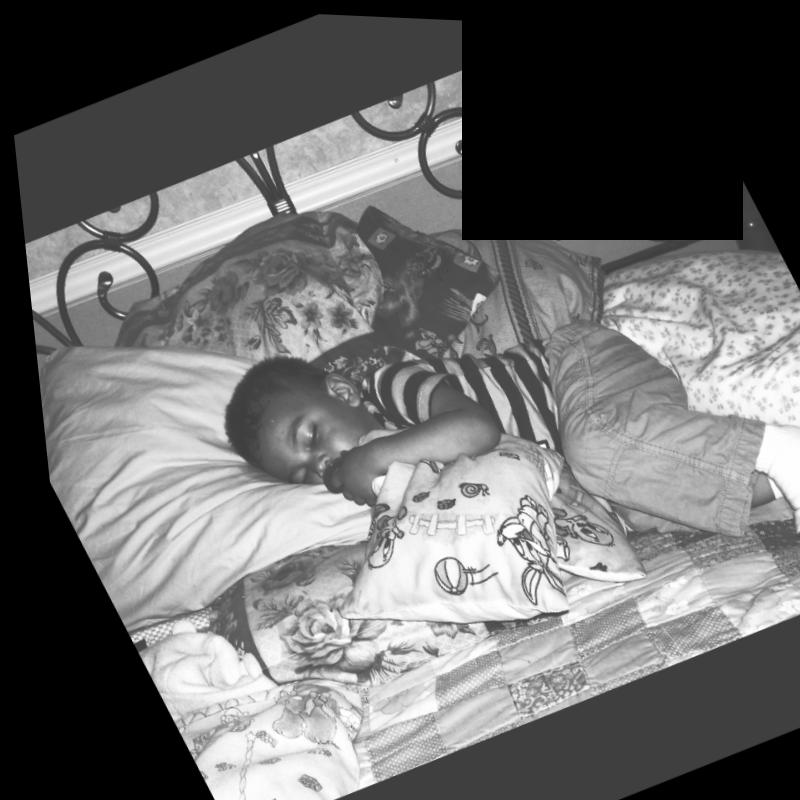pillow: (2, 20, 800, 800)
